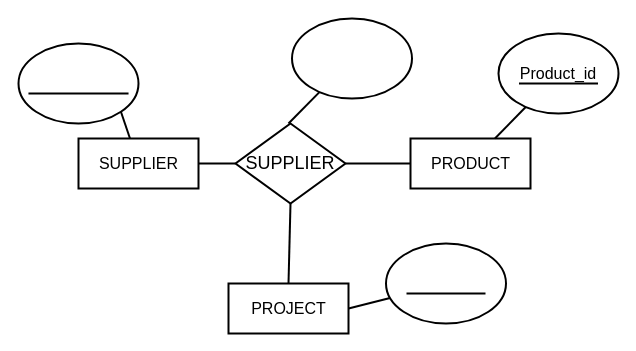
This 636x351 diagram has some shape labels left out. The shapes that lost their labels are listed below. From the top down, each one's box as (x1, y1, x2, y2) in pixels, then its label:
(290, 17, 412, 99): Quantity
(17, 42, 139, 124): Supplier_id
(384, 242, 506, 324): Project_id
